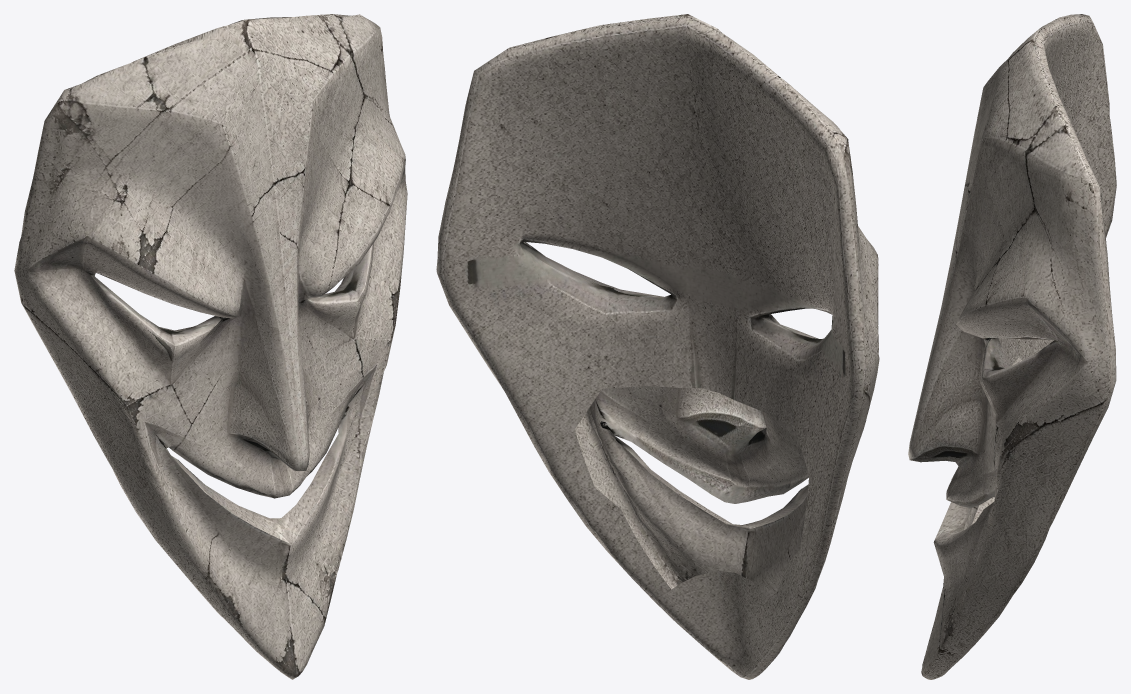
File: rostro_5_escalera_evil1.glb
3 renders of one model, left to right at view 1: azimuth 30°, elevation 25°; view 2: azimuth 150°, elevation 25°; view 3: azimuth 270°, elevation 25°, orthographic. The views are drawn at different scales.
Visible parts, largest first — view 1: tripo_node_c57f7ddc-70c0-46eb-9cf1-08af57b35f1f; view 2: tripo_node_c57f7ddc-70c0-46eb-9cf1-08af57b35f1f; view 3: tripo_node_c57f7ddc-70c0-46eb-9cf1-08af57b35f1f.
Part boxes in pixels (x1,y1,x2,y2): tripo_node_c57f7ddc-70c0-46eb-9cf1-08af57b35f1f: [14, 14, 407, 679]; tripo_node_c57f7ddc-70c0-46eb-9cf1-08af57b35f1f: [436, 14, 879, 679]; tripo_node_c57f7ddc-70c0-46eb-9cf1-08af57b35f1f: [908, 14, 1116, 679].
Size of the model in its own units: 0.6363 by 0.9912 by 0.2919.
Materials: 1 (1 with a texture image).
